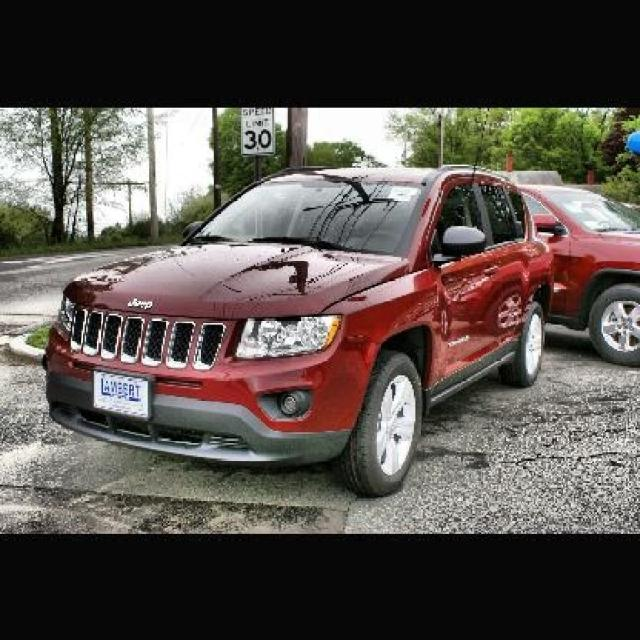maroon: (45, 164, 551, 492)
